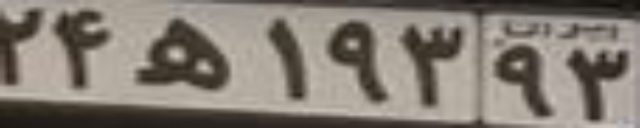1: (267, 18, 307, 100)
2: (0, 8, 42, 86)
3: (399, 21, 465, 108), (565, 46, 631, 121)
4: (52, 9, 110, 88)
9: (328, 19, 390, 104), (493, 42, 550, 117)
he: (134, 17, 233, 89)
